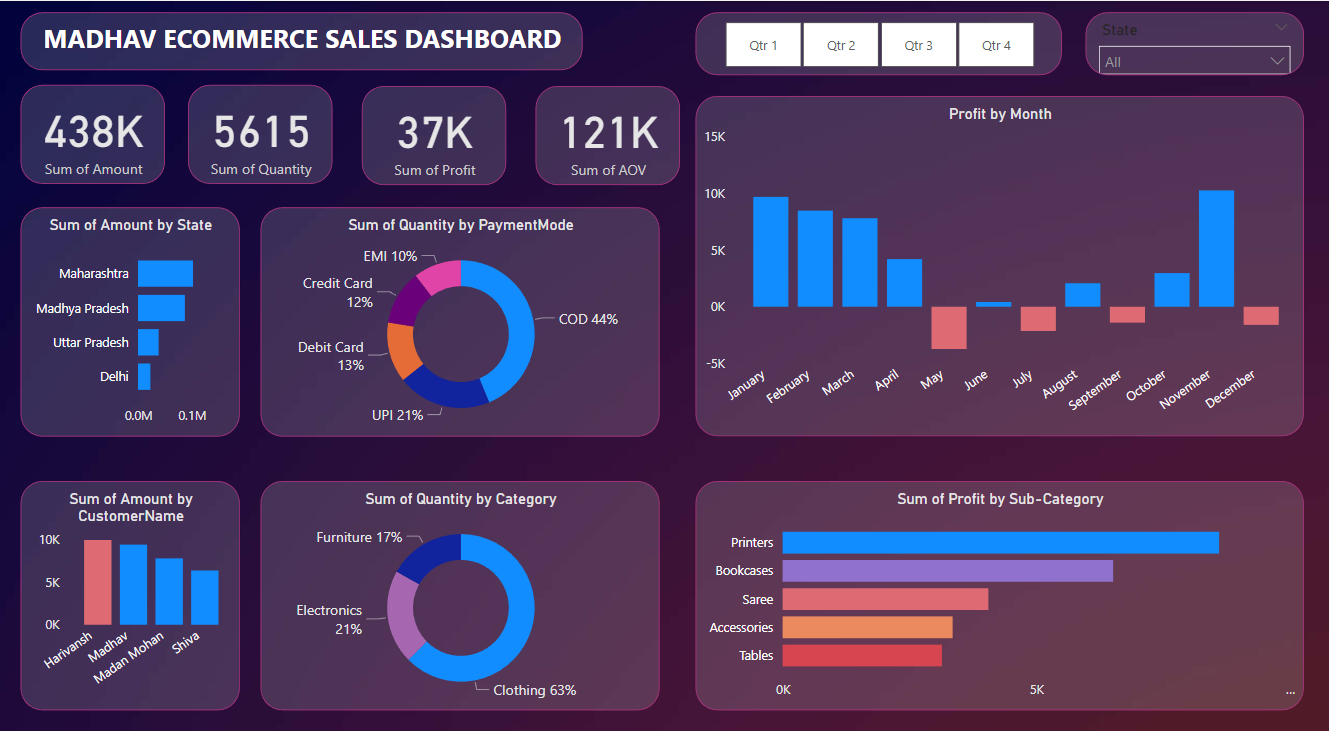

Layout of this report page (visuals, bound fields, positions):
{"tool":"powerbi","page":{"name":"Page 1","canvas":[1280,720],"ordinal":0},"visuals":[{"type":"textbox","box":[22,11,535.2,54.9],"z":0},{"type":"columnChart","title":"Profit by Month","fields":{"Y":["Details.Profit"],"Category":["Orders.Order Date.Variation.Date Hierarchy.Month"]},"box":[664.2,90.6,579.1,323.8],"z":1000},{"type":"barChart","fields":{"Category":["Details.Sub-Category"],"Y":["Details.Profit"]},"box":[664.2,456.9,579.1,218.2],"z":2000},{"type":"donutChart","fields":{"Category":["Details.Category"],"Y":["Details.Quantity"]},"box":[249.7,456.9,380.1,218.2],"z":3000},{"type":"donutChart","fields":{"Y":["Details.Quantity"],"Category":["Details.PaymentMode"]},"box":[249.7,196.2,380.1,218.2],"z":4000},{"type":"card","fields":{"Values":["Details.Amount"]},"box":[22,79.6,137.2,94.7],"z":5000},{"type":"card","fields":{"Values":["Details.Quantity"]},"box":[181.1,79.6,137.2,94.7],"z":6000},{"type":"card","fields":{"Values":["Details.Profit"]},"box":[345.8,81,137.2,94.7],"z":7000},{"type":"card","fields":{"Values":["Details.AOV"]},"box":[511.8,81,137.2,94.7],"z":8000},{"type":"barChart","fields":{"Category":["Orders.State"],"Y":["Details.Amount"]},"box":[22,196.2,208.6,218.2],"z":9000},{"type":"columnChart","fields":{"Category":["Orders.CustomerName"],"Y":["Details.Amount"]},"box":[22,457,209,218],"z":10000},{"type":"slicer","fields":{"Values":["Orders.Order Date.Variation.Date Hierarchy.Quarter"]},"box":[664.1,11,349.2,60.2],"z":11000},{"type":"slicer","fields":{"Values":["Orders.State"]},"box":[1035.2,11,208.1,60.2],"z":12000}]}

Visuals, with their boxes in screenshot pixels (x1, y1, x2, y2), scaled from the page's 1280x720 canvas onto the 1329x731 screenshot:
textbox: (23,11,579,67)
"Profit by Month" columnChart: (690,92,1291,421)
barChart - Details.Sub-Category x Details.Profit: (690,464,1291,685)
donutChart - Details.Category x Details.Quantity: (259,464,654,685)
donutChart - Details.Quantity x Details.PaymentMode: (259,199,654,421)
card - Details.Amount: (23,81,165,177)
card - Details.Quantity: (188,81,330,177)
card - Details.Profit: (359,82,501,178)
card - Details.AOV: (531,82,674,178)
barChart - Orders.State x Details.Amount: (23,199,239,421)
columnChart - Orders.CustomerName x Details.Amount: (23,464,240,685)
slicer - Orders.Order Date.Variation.Date Hierarchy.Quarter: (690,11,1052,72)
slicer - Orders.State: (1075,11,1291,72)
